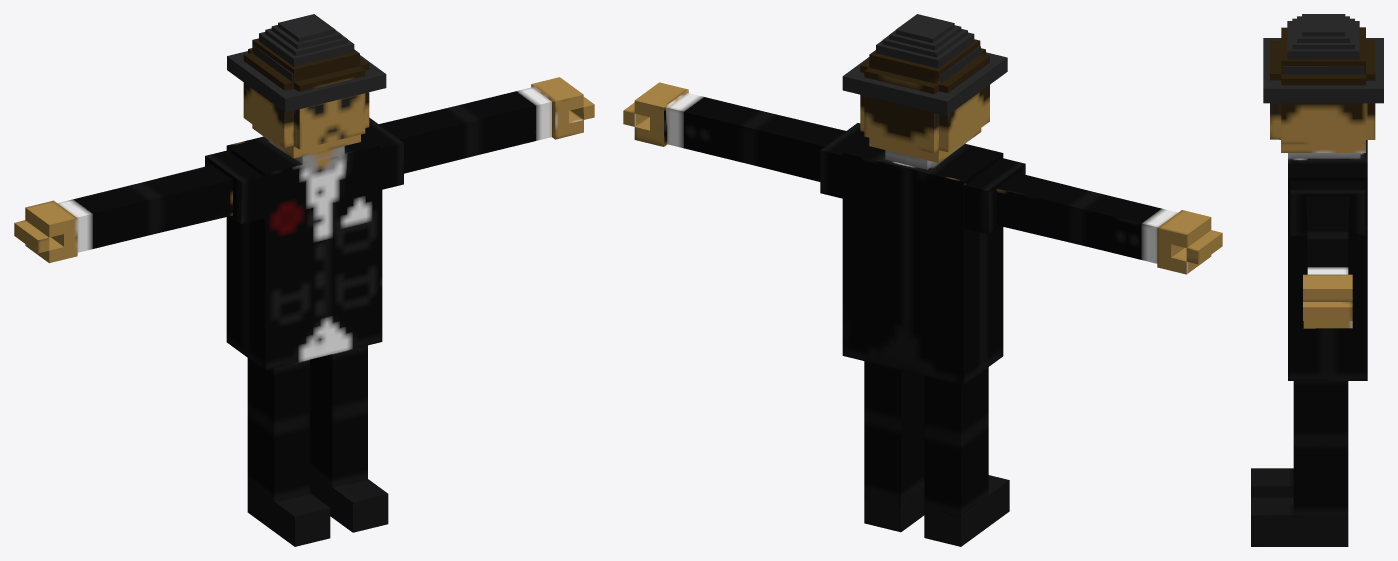
File: character1.fbx
3 views of the same model, side by side, from view 1: azimuth 30°, elevation 25°; view 2: azimuth 150°, elevation 25°; view 3: azimuth 270°, elevation 25° (orthographic). The views are drawn at different scales.
Visible parts, largest first — view 1: Cube, Cube.004; view 2: Cube, Cube.004; view 3: Cube, Cube.004.
Part boxes in pixels (x1,y1,x2,y2): Cube: [14, 38, 594, 546]; Cube.004: [227, 14, 386, 112]; Cube: [623, 39, 1222, 546]; Cube.004: [842, 14, 1007, 115]; Cube: [1251, 27, 1375, 546]; Cube.004: [1263, 14, 1383, 103].
Bounding box in the file's own units: 221 × 183 × 44.11.
